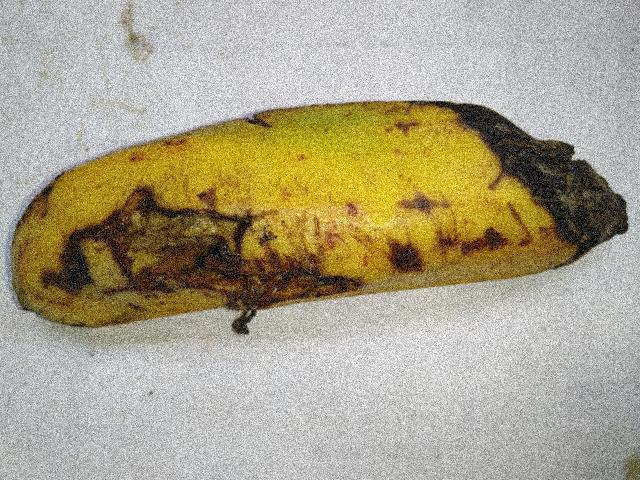rotten: (24, 176, 350, 363), (406, 86, 638, 283)
